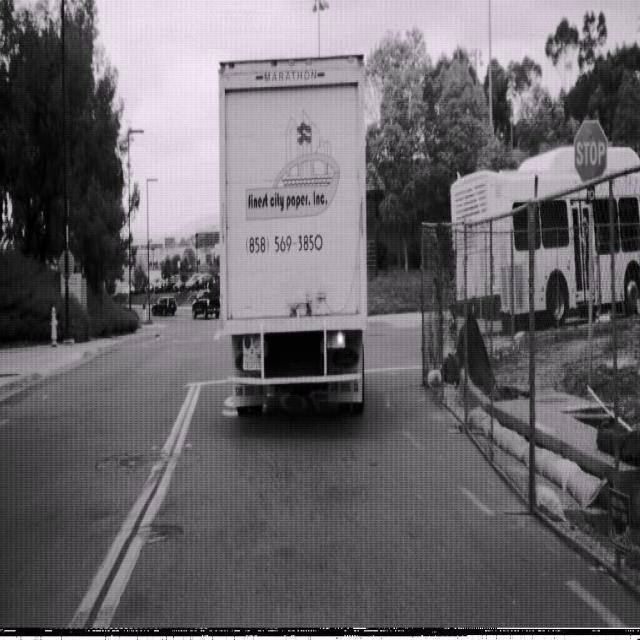stop: (573, 118, 608, 185)
